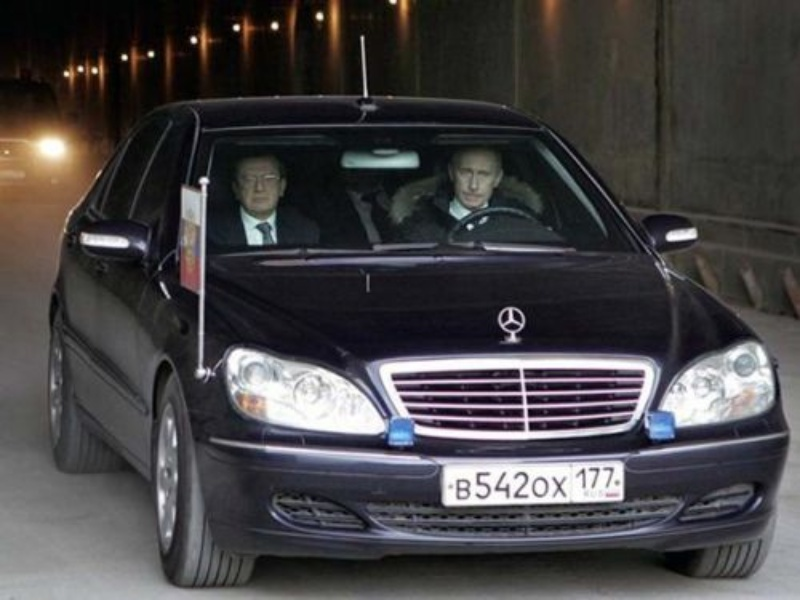car: (47, 94, 793, 588), (1, 78, 74, 202)
person: (397, 148, 539, 241), (212, 154, 321, 249)
plate: (444, 465, 623, 503)
